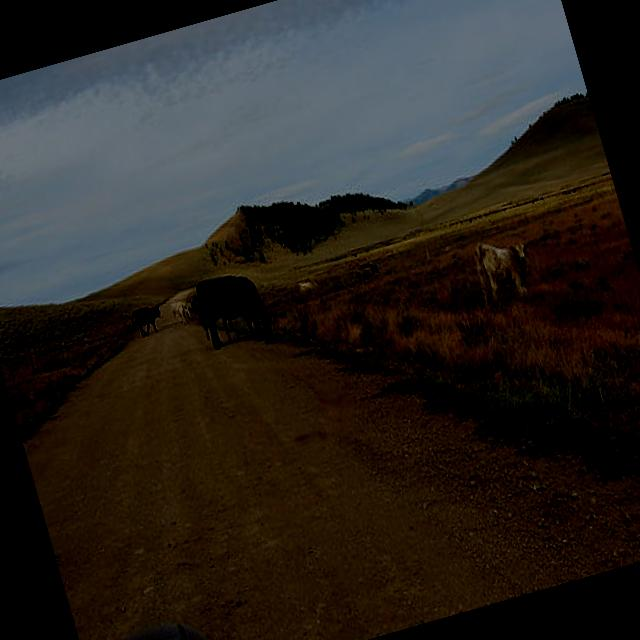Vehicle: (80, 605, 239, 640)
